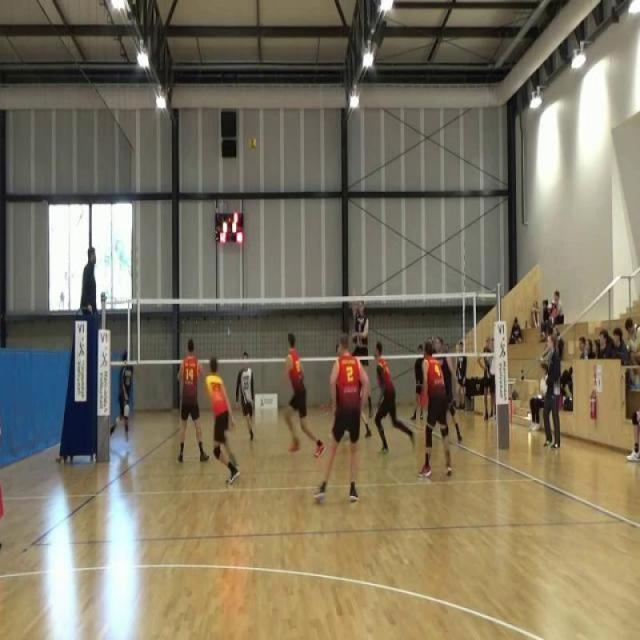volleyball: (247, 135, 258, 151)
